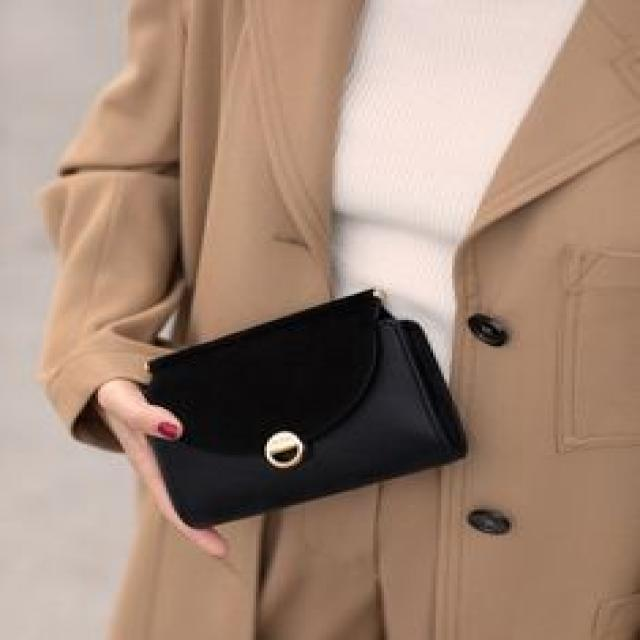handbag: (149, 291, 473, 530)
